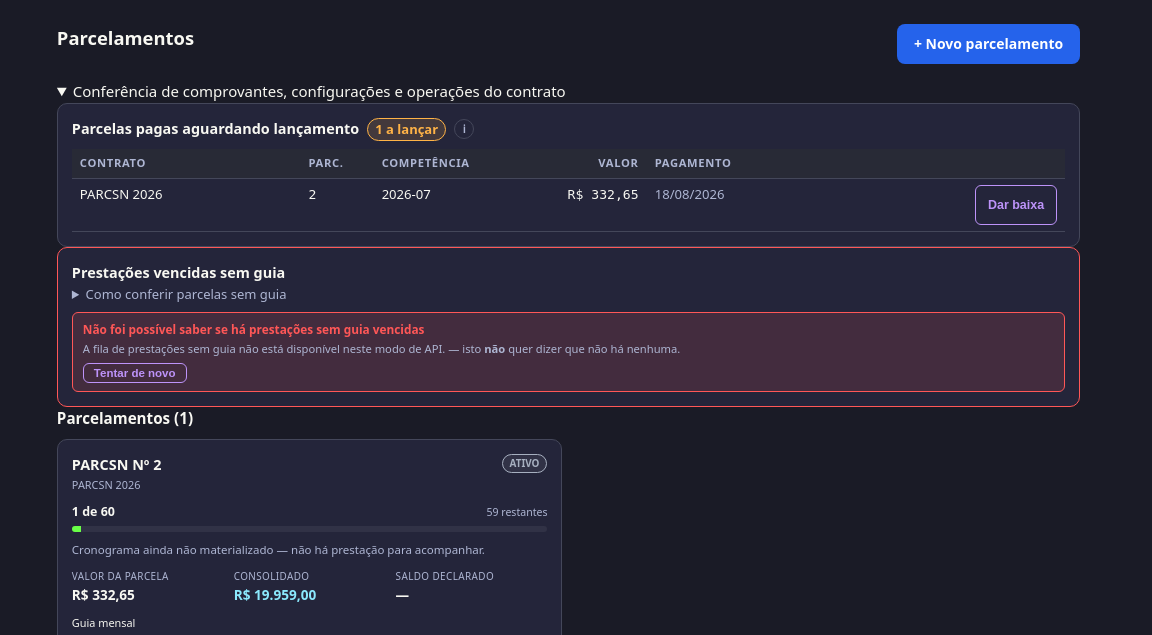
Test case: o modal diz o que é prova e o que é declaração › separa o pagamento (comprovado) da composição (declarada)
Click the button titled "Grava os lançamentos de baixa desta parcela (pede confirmação)." in the row of "2026-07" at (1016, 205), box [975, 185, 1057, 225]
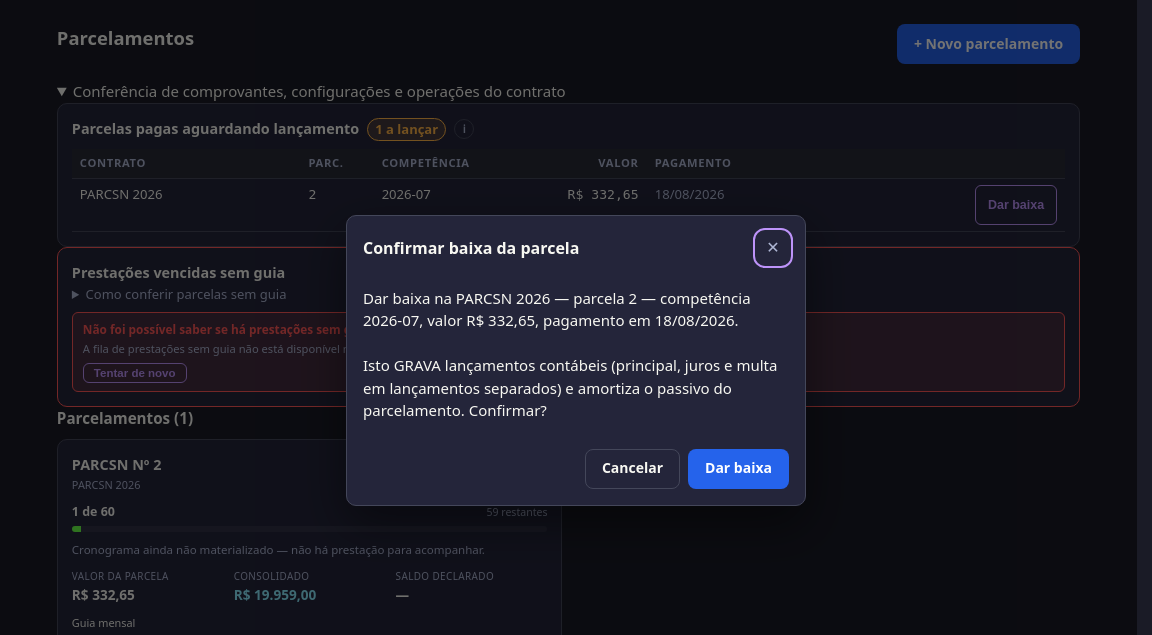
Click the button "Dar baixa" at (738, 468), box [688, 448, 789, 488]
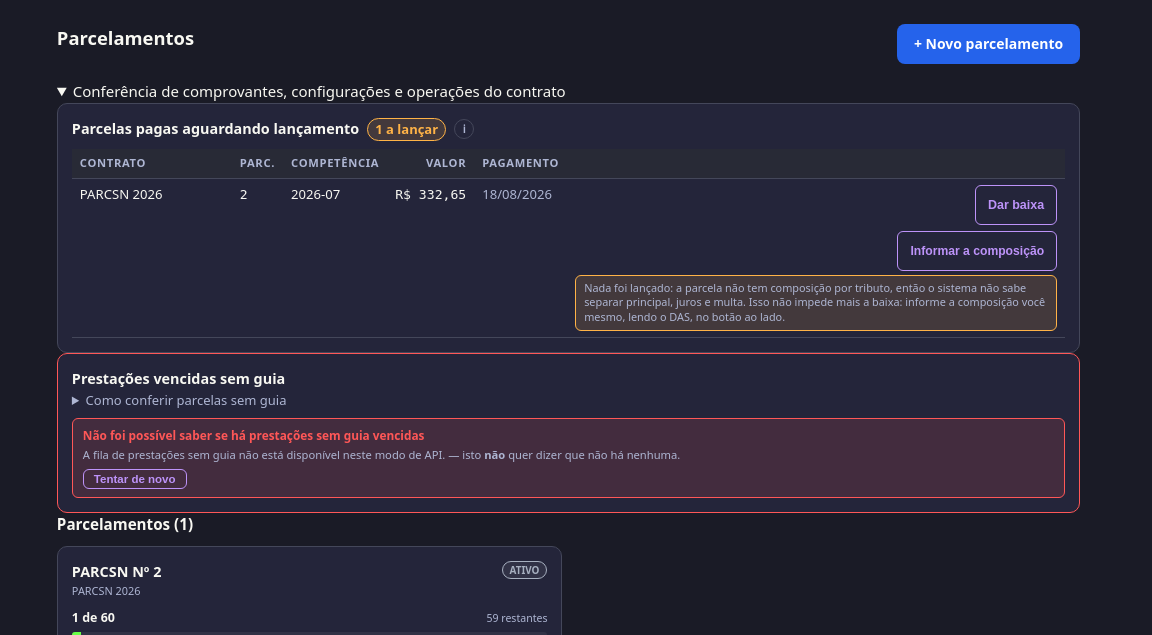
Click the button "Informar a composição" at (977, 251), box [897, 231, 1057, 271]
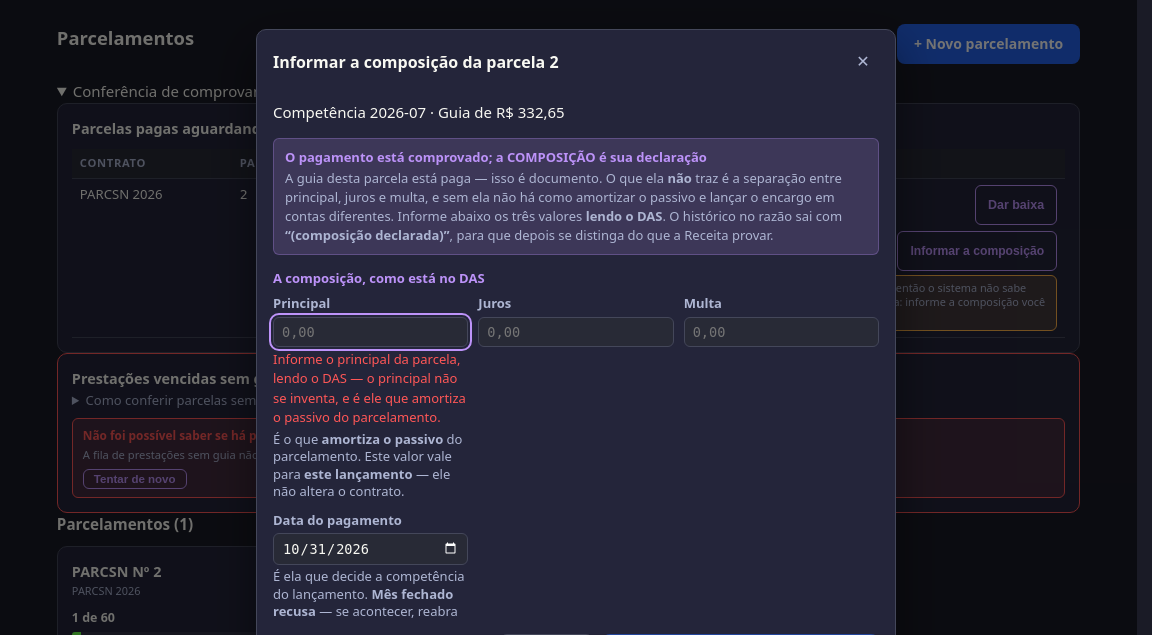
Check: the text "O pagamento está comprovado; a COMPOSIÇÃO é sua declaração" is shown, box [285, 148, 707, 166]
Check: the text "“(composição declarada)”" is shown, box [285, 226, 450, 244]
